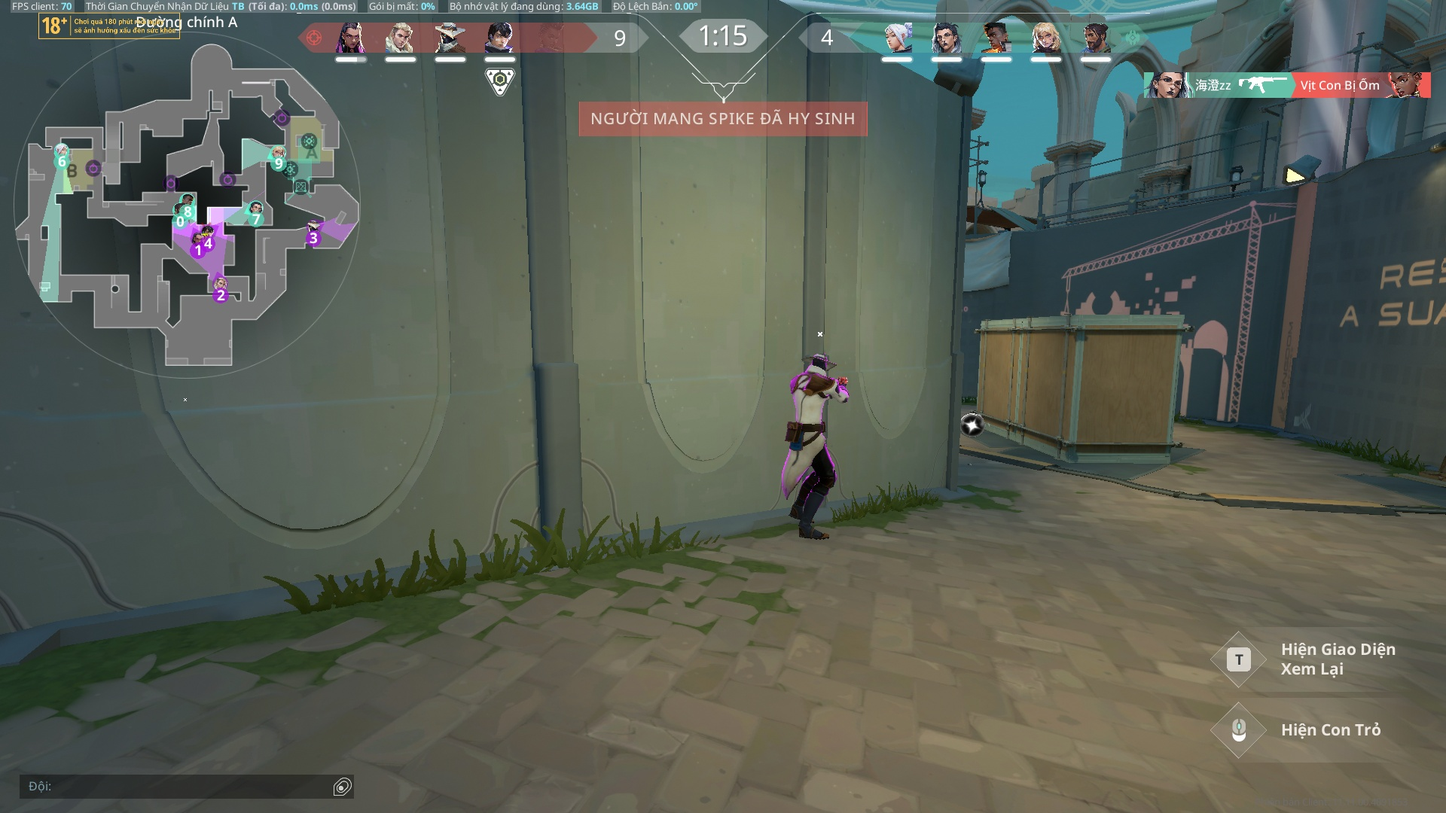body: (788, 370, 828, 427)
head: (809, 352, 828, 372)
